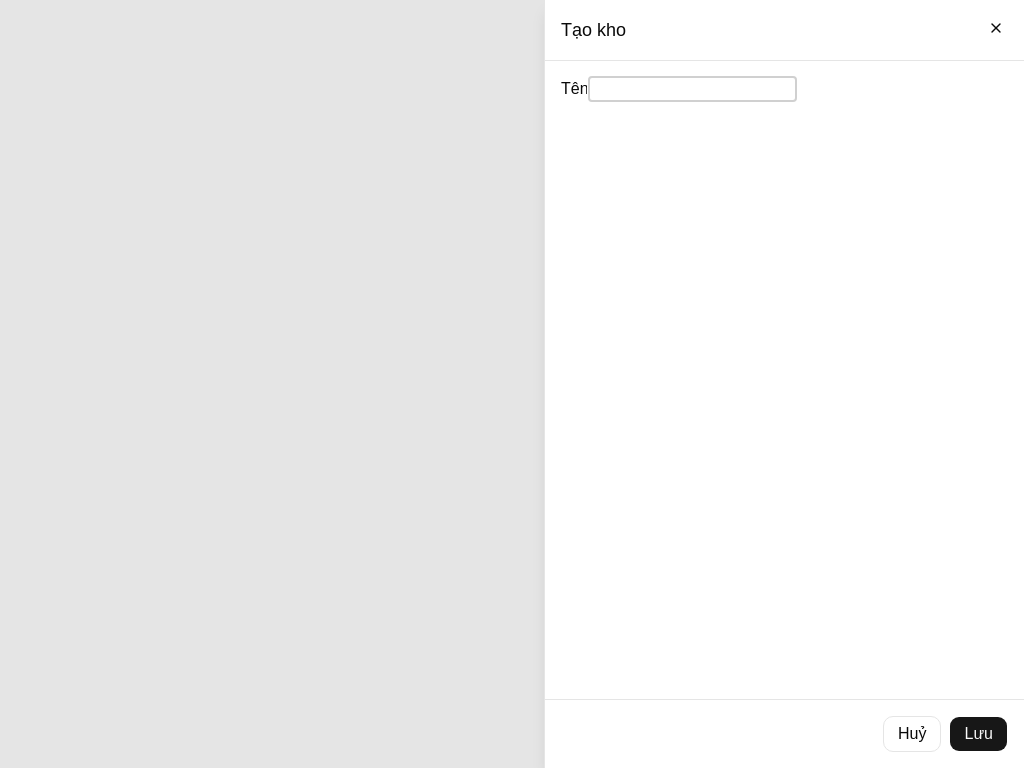
Test: FormSheet › đã sửa mà chưa lưu (isDirty) › nút × ở góc → hỏi "Bỏ thay đổi chưa lưu?", chưa đóng sheet
Click the button named "Đóng" at (996, 28), box [980,12,1012,44]
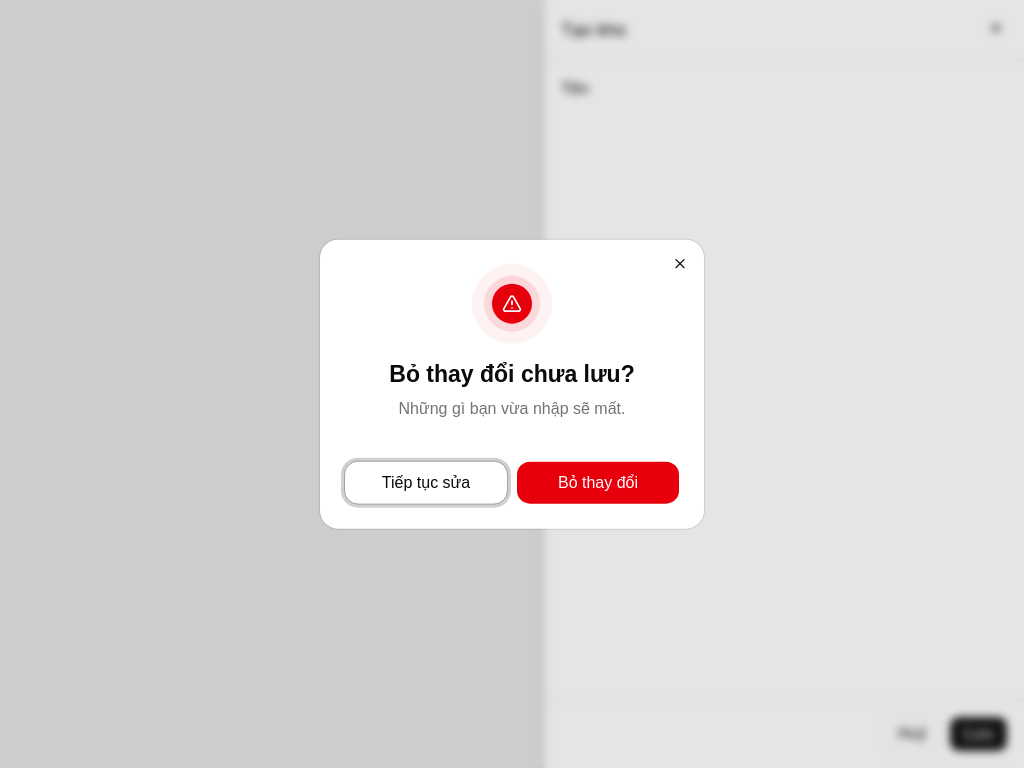
Check: the dialog that starts with "Bỏ thay đổi chưa lưu?" is shown, box [389,361,635,387]
